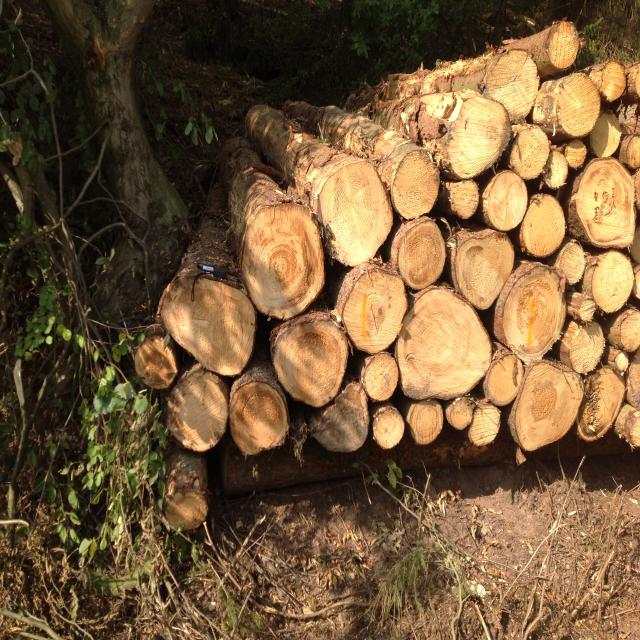wood-log: (395, 286, 491, 400), (160, 269, 256, 377), (240, 202, 325, 320), (318, 161, 392, 266), (271, 315, 349, 407), (515, 361, 584, 450), (502, 268, 566, 363), (342, 271, 408, 355), (448, 95, 511, 179), (575, 159, 635, 246), (166, 377, 229, 452), (455, 233, 514, 310), (230, 382, 289, 455), (309, 382, 369, 452), (484, 50, 539, 124), (576, 367, 625, 442), (392, 149, 440, 219), (398, 221, 445, 290), (556, 74, 600, 139), (522, 194, 565, 258), (591, 251, 634, 313), (504, 124, 550, 179), (486, 171, 528, 231), (135, 336, 178, 390), (482, 353, 524, 407), (569, 321, 605, 373), (165, 490, 209, 531), (365, 353, 399, 402), (466, 400, 501, 447), (548, 18, 579, 70), (409, 400, 444, 445), (589, 110, 621, 157), (372, 408, 405, 450), (600, 60, 626, 102), (541, 149, 568, 189), (452, 181, 479, 219), (562, 243, 586, 285), (620, 310, 640, 351), (450, 397, 474, 430), (564, 139, 588, 169), (626, 134, 640, 169), (580, 298, 596, 323), (629, 415, 639, 449), (615, 351, 629, 372)
